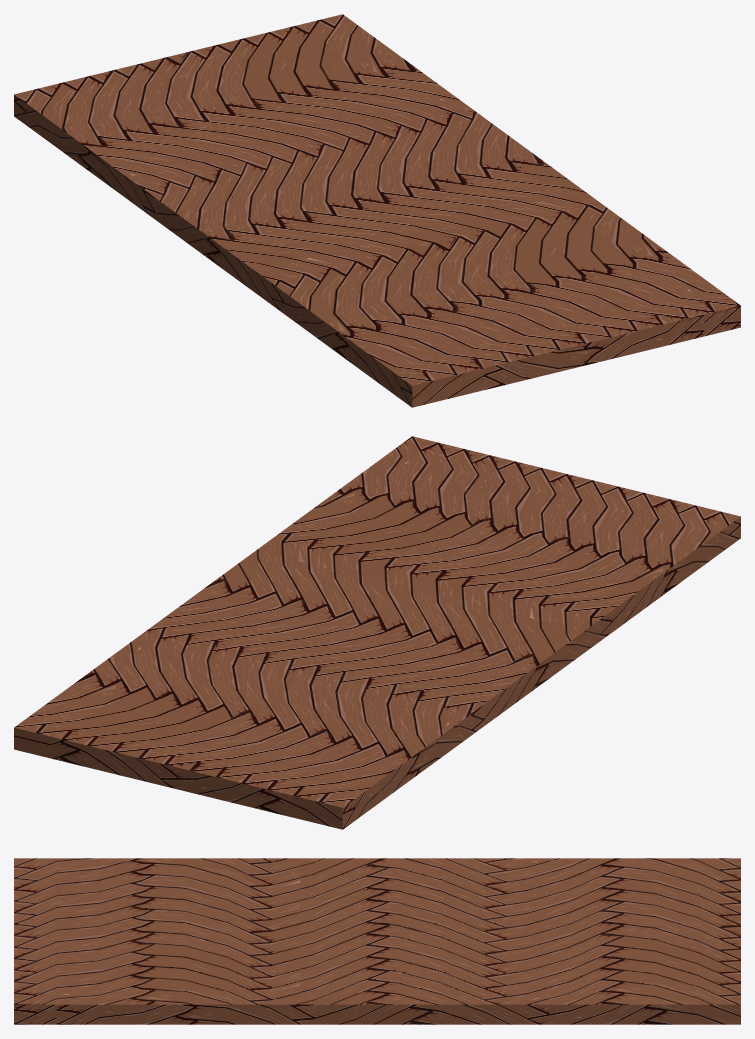
The model's file is FloorOffice.fbx.
3 renders of one model, top to bottom at view 1: azimuth 30°, elevation 25°; view 2: azimuth 150°, elevation 25°; view 3: azimuth 270°, elevation 25°, orthographic. The views are drawn at different scales.
Parts seen in each view (by area): view 1: OfficeFloor; view 2: OfficeFloor; view 3: OfficeFloor.
Boxes of the visible parts, x1,y1,x2,y2 form: OfficeFloor: (14, 14, 740, 407); OfficeFloor: (14, 436, 740, 829); OfficeFloor: (14, 858, 740, 1024).
Size of the model in its own units: 310 by 19.69 by 650.
